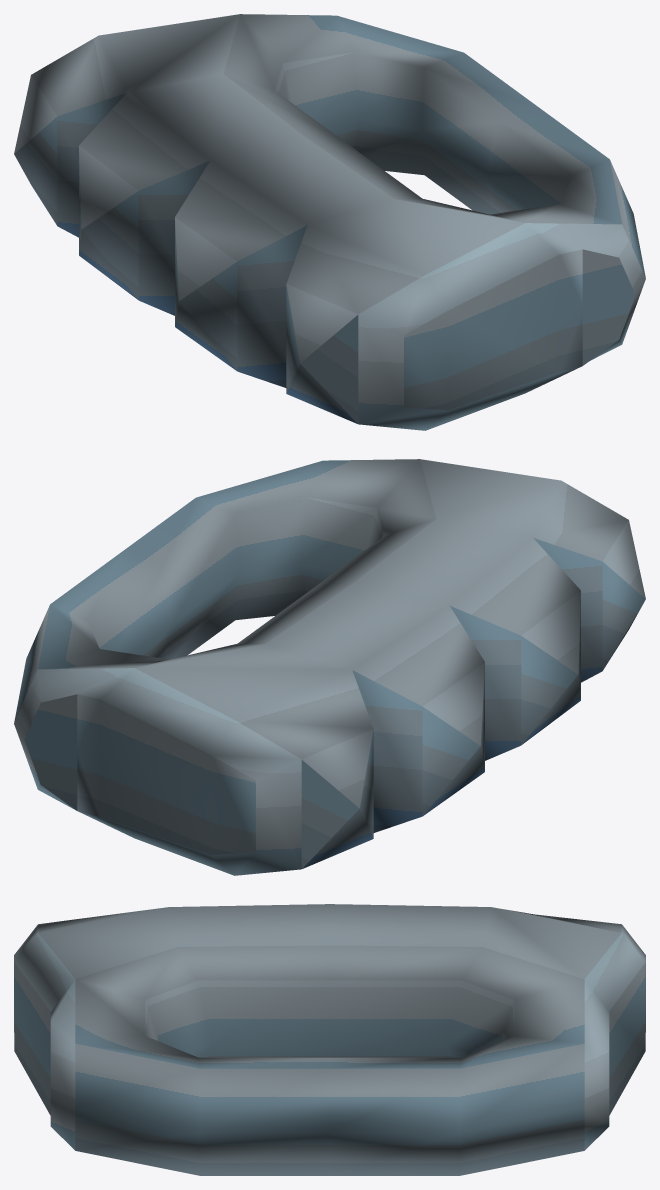
File: fistweapon_a.glb
The picture shows the model from 3 angles, top to bottom: view 1: azimuth 30°, elevation 25°; view 2: azimuth 150°, elevation 25°; view 3: azimuth 270°, elevation 25°; orthographic projection. The views are drawn at different scales.
Parts seen in each view (by area): view 1: fistweapon_a; view 2: fistweapon_a; view 3: fistweapon_a.
Part boxes in pixels (x1,y1,x2,y2): fistweapon_a: (14, 14, 645, 430); fistweapon_a: (14, 459, 645, 875); fistweapon_a: (14, 904, 645, 1175).
Size of the model in its own units: 0.2268 by 0.0859 by 0.3233.
1 material, 1 textured.
